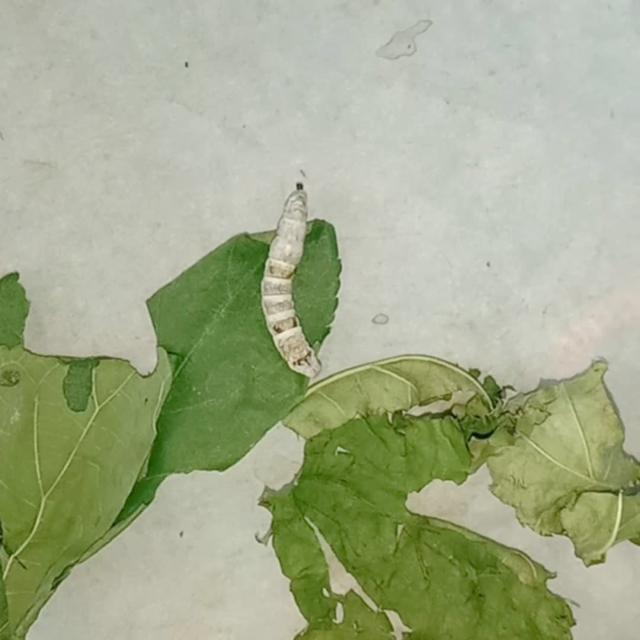Grasserie: (222, 147, 370, 404)
